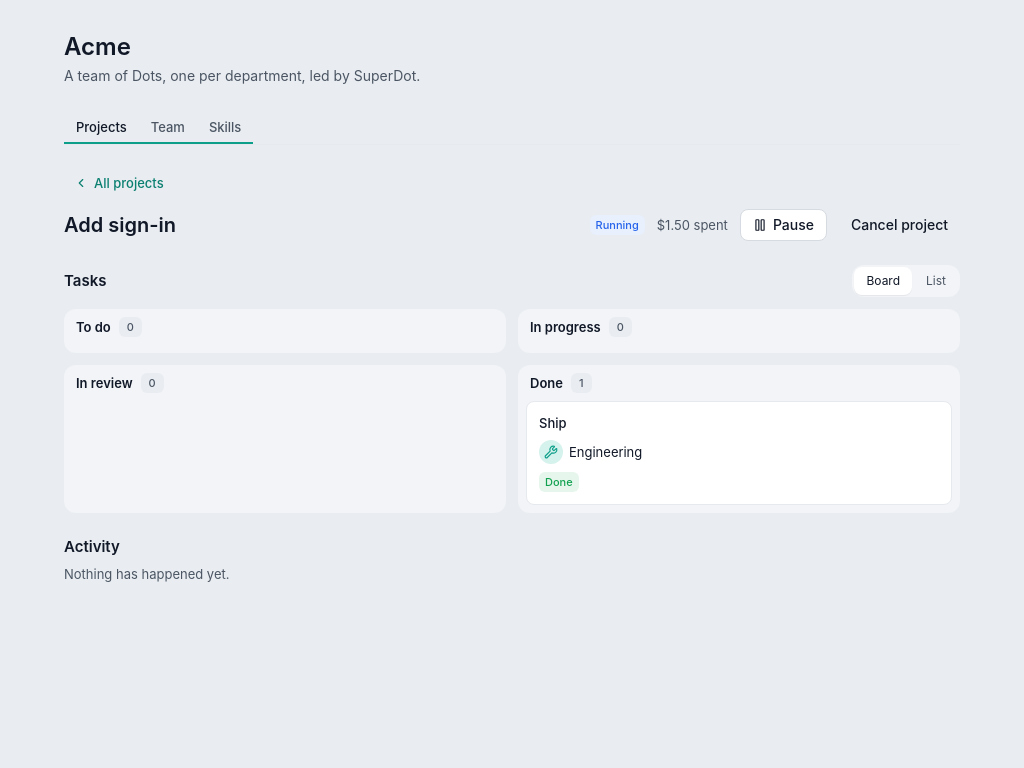
Test: task drawer › shows deliverables of every kind and no actions on a done task
What coordinates should you click on to do the following:
click the button "Ship Engineering Done"
I would click on:
 (606, 452)
Its box is [526, 401, 952, 505].
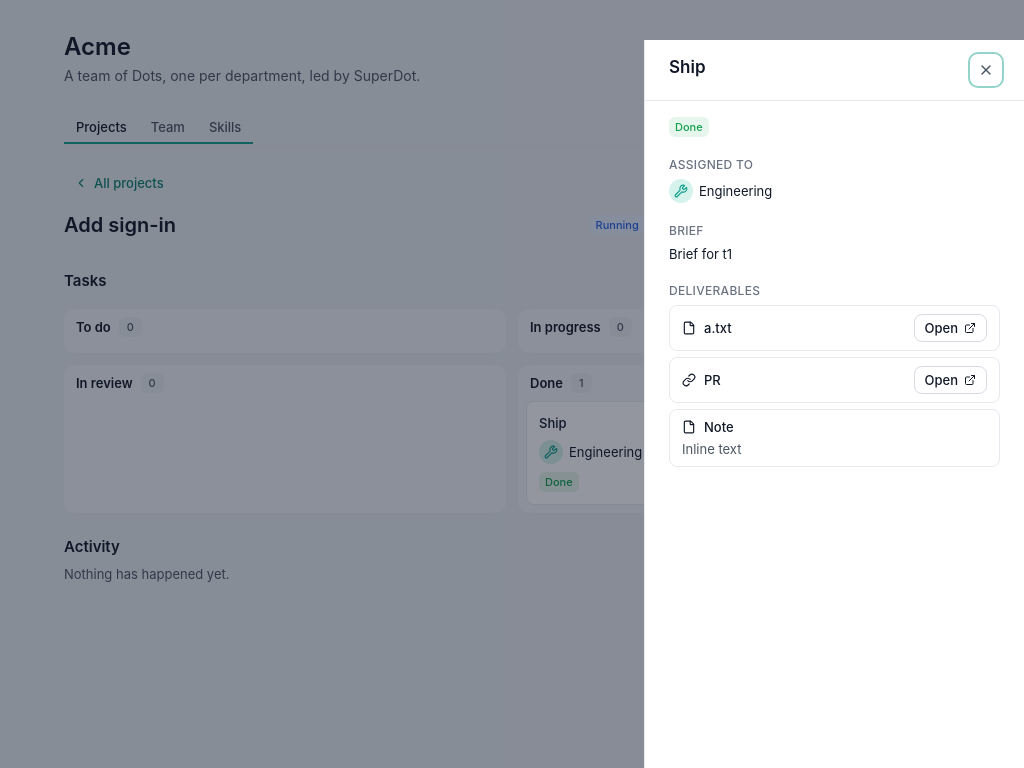
Check: the text "a.txt" is shown, box [704, 320, 732, 336]
Check: the text "Inline text" is shown, box [682, 441, 741, 457]
Check: the number of buttons "Open " is 2, box [914, 314, 987, 342]; [914, 366, 987, 394]
